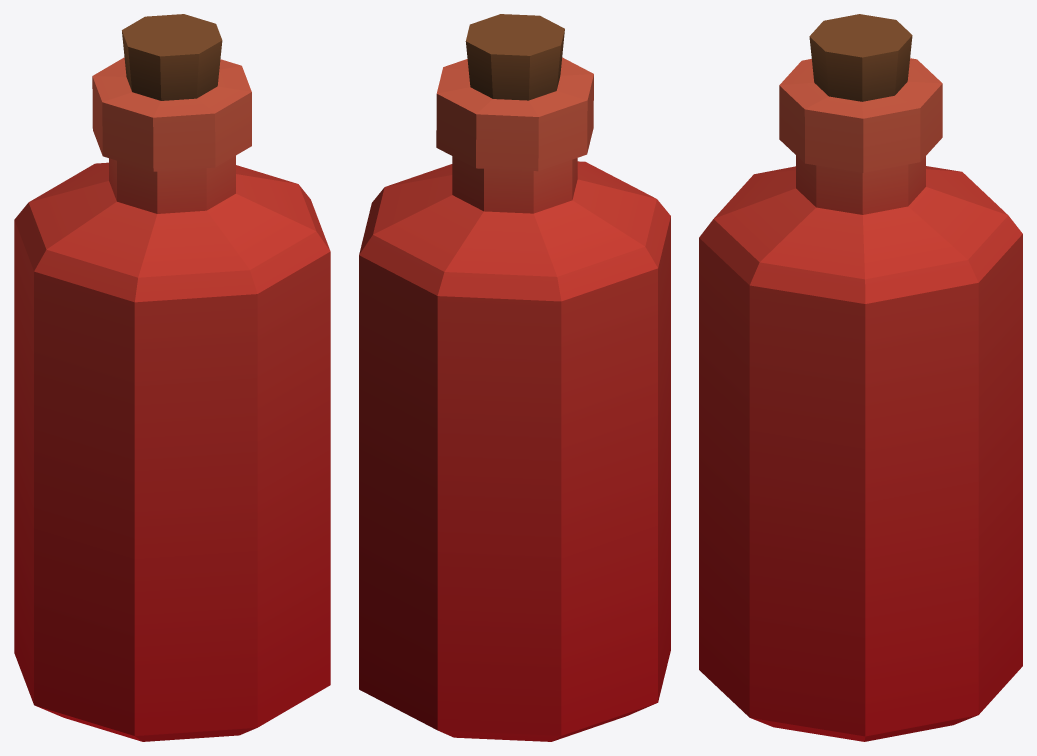
The model's file is potion_009_red.fbx.
3 renders of one model, left to right at view 1: azimuth 30°, elevation 25°; view 2: azimuth 150°, elevation 25°; view 3: azimuth 270°, elevation 25°, orthographic.
Visible parts, largest first — view 1: potion_009_red; view 2: potion_009_red; view 3: potion_009_red.
Part boxes in pixels (x1,y1,x2,y2): potion_009_red: [14, 14, 330, 741]; potion_009_red: [359, 14, 670, 741]; potion_009_red: [699, 14, 1022, 741].
Bounding box in the file's own units: 0.18 × 0.4 × 0.18.
